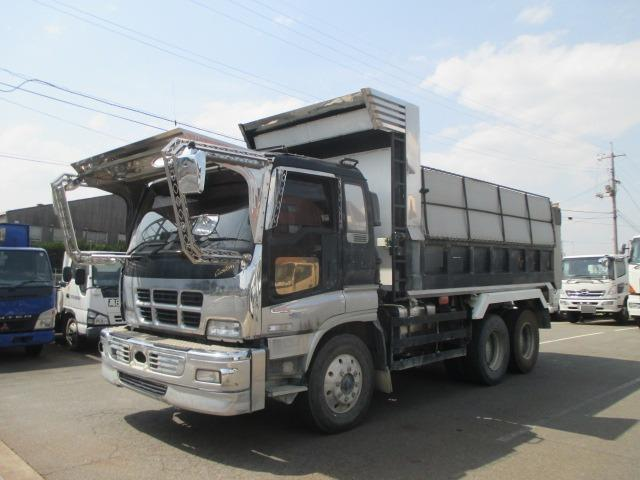truck: (78, 90, 568, 435), (0, 207, 53, 369), (54, 249, 127, 352), (558, 252, 631, 321)
